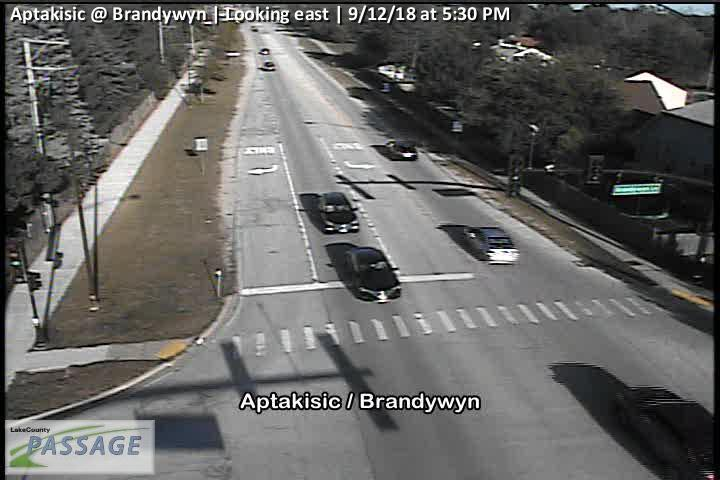Sedan: (614, 383, 720, 480), (344, 245, 401, 304), (465, 224, 520, 265), (317, 191, 360, 233), (385, 140, 418, 161), (261, 61, 275, 71), (259, 48, 270, 55)
